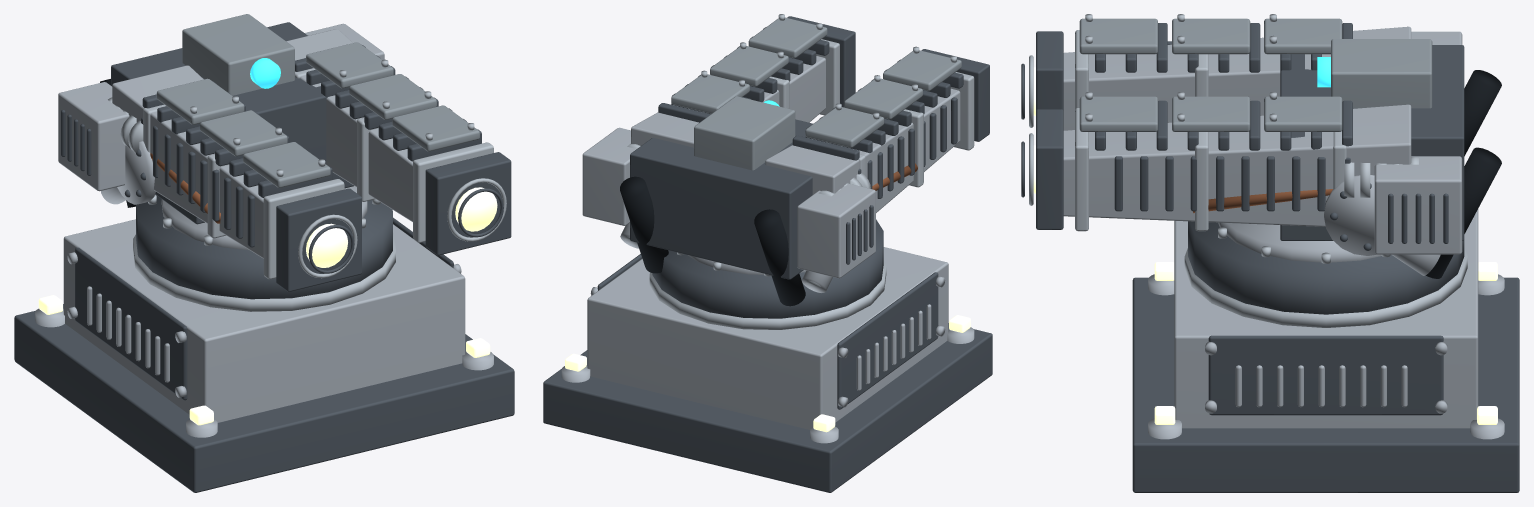
The model's file is ips.glb.
3 renders of one model, left to right at view 1: azimuth 30°, elevation 25°; view 2: azimuth 150°, elevation 25°; view 3: azimuth 270°, elevation 25°, orthographic. The views are drawn at different scales.
Visible parts, largest first — view 1: body_dark.136, body_steel.146, head_dark.017, head_ceramic.004, head_steel.028, body_dark.137, head_titanium.009, body_titanium.027, body_steel.147, head_titanium.008, head_warm.006, head_steel.027 (+3 smaller); view 2: body_dark.136, body_steel.146, head_dark.017, head_steel.028, head_ceramic.004, body_dark.137, head_rubber.006, head_titanium.009, body_titanium.027, body_steel.147, body_warm.096, head_titanium.008 (+1 smaller); view 3: body_dark.136, head_steel.028, head_dark.017, head_ceramic.004, body_steel.146, body_dark.137, body_steel.147, head_titanium.009, body_titanium.027, head_rubber.006, head_steel.027, head_titanium.008 (+3 smaller).
Part boxes in pixels (left/top/right/bottom): body_dark.136: left=14, top=217, right=514, bottom=492; body_steel.146: left=63, top=219, right=465, bottom=422; head_dark.017: left=61, top=22, right=511, bottom=291; head_ceramic.004: left=156, top=14, right=479, bottom=187; head_steel.028: left=58, top=23, right=412, bottom=258; body_dark.137: left=136, top=194, right=392, bottom=299; head_titanium.009: left=143, top=68, right=493, bottom=279; body_titanium.027: left=133, top=194, right=395, bottom=311; body_steel.147: left=35, top=186, right=493, bottom=437; head_titanium.008: left=108, top=59, right=506, bottom=278; head_warm.006: left=306, top=187, right=497, bottom=267; head_steel.027: left=100, top=141, right=155, bottom=204; body_dark.136: left=543, top=254, right=992, bottom=492; body_steel.146: left=587, top=247, right=948, bottom=429; head_dark.017: left=630, top=16, right=989, bottom=279; head_steel.028: left=582, top=56, right=960, bottom=278; head_ceramic.004: left=671, top=17, right=961, bottom=170; body_dark.137: left=652, top=219, right=883, bottom=318; head_rubber.006: left=620, top=176, right=805, bottom=306; head_titanium.009: left=769, top=39, right=974, bottom=187; body_titanium.027: left=649, top=252, right=886, bottom=329; body_steel.147: left=561, top=255, right=974, bottom=443; body_warm.096: left=565, top=315, right=970, bottom=432; head_titanium.008: left=624, top=14, right=956, bottom=287; body_dark.136: left=1132, top=277, right=1519, bottom=492; head_steel.028: left=1063, top=26, right=1462, bottom=254; head_dark.017: left=1036, top=23, right=1464, bottom=243; head_ceramic.004: left=1079, top=18, right=1432, bottom=131; body_steel.146: left=1174, top=209, right=1478, bottom=428; body_dark.137: left=1188, top=221, right=1464, bottom=314; body_steel.147: left=1148, top=222, right=1504, bottom=439; head_titanium.009: left=1075, top=30, right=1346, bottom=231; body_titanium.027: left=1184, top=227, right=1467, bottom=327; head_rubber.006: left=1426, top=70, right=1501, bottom=278; head_steel.027: left=1324, top=175, right=1440, bottom=275; head_titanium.008: left=1029, top=14, right=1418, bottom=205.
Bounding box in the file's own units: 0.86 × 0.85 × 1.08.
